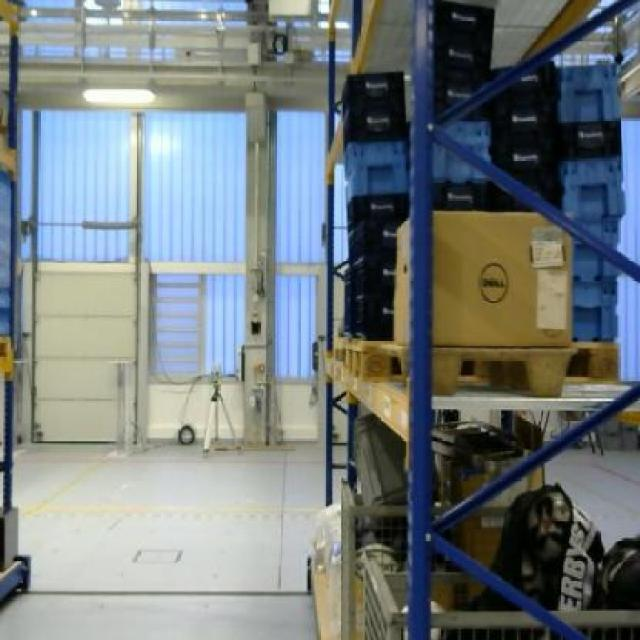box: (394, 210, 572, 344)
